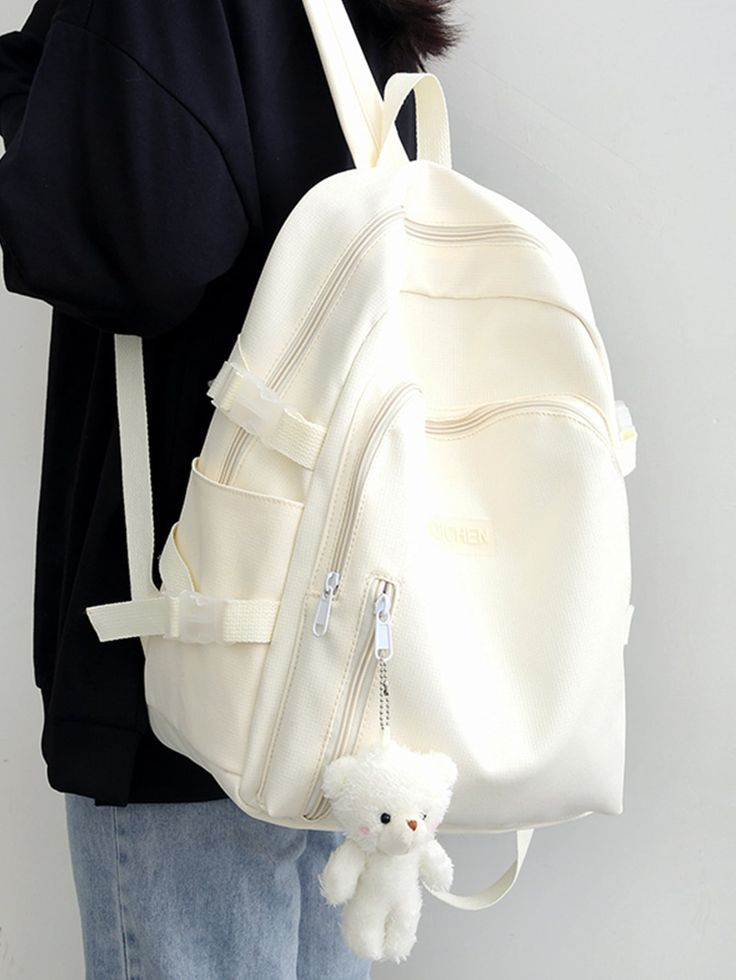nylon: (108, 2, 637, 838)
